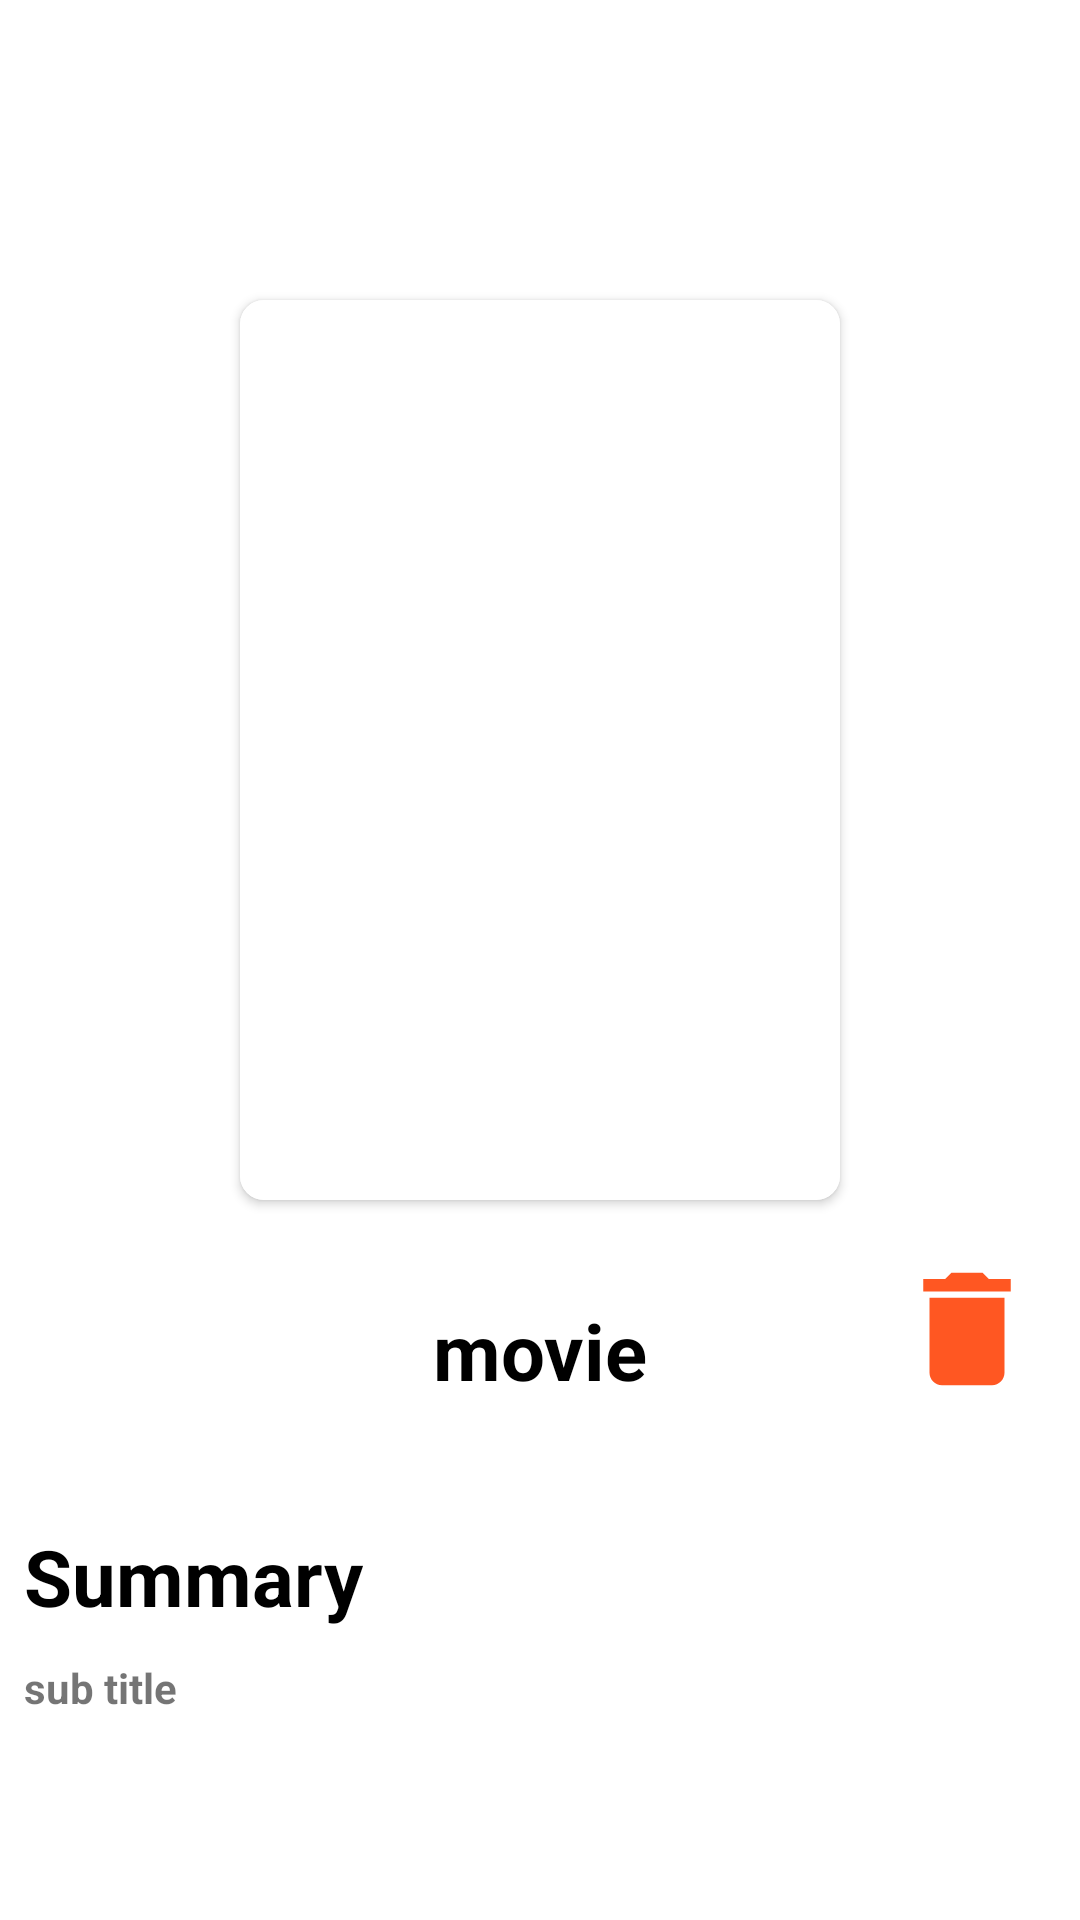

Icon click points for this 1080w x 1920h phone screenshot, format [x,y]:
delete: [967,1329]
